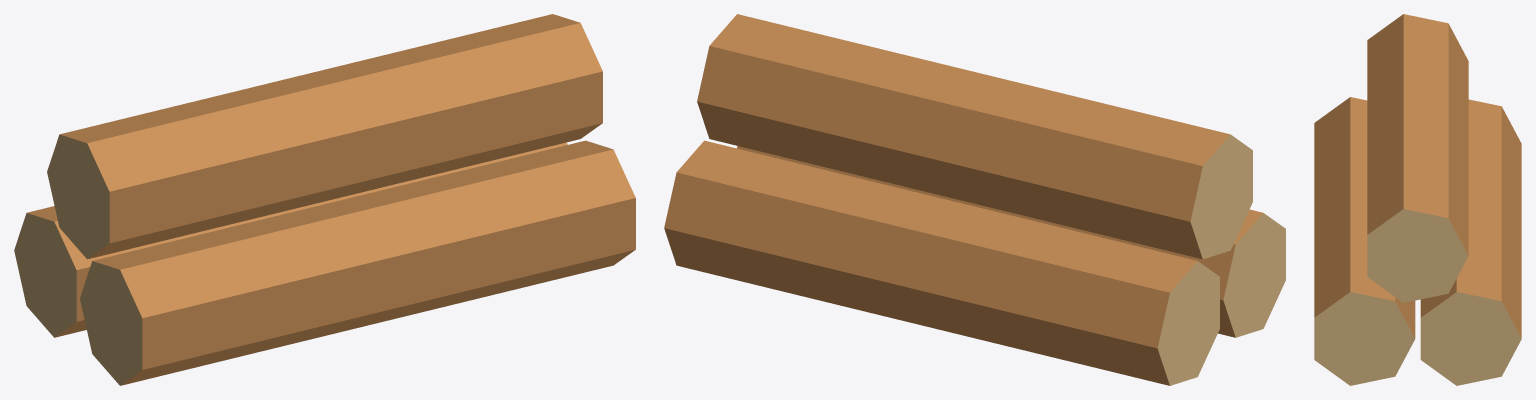
File: prop_logs_s.fbx
The picture shows the model from 3 angles, left to right: view 1: azimuth 30°, elevation 25°; view 2: azimuth 150°, elevation 25°; view 3: azimuth 270°, elevation 25°; orthographic projection. The views are drawn at different scales.
Visible parts, largest first — view 1: prop_logs_s; view 2: prop_logs_s; view 3: prop_logs_s.
Boxes of the visible parts, <box> form: prop_logs_s: <box>14,14,635,385</box>; prop_logs_s: <box>664,14,1285,385</box>; prop_logs_s: <box>1314,14,1521,385</box>.
Size of the model in its own units: 0.312 by 0.1321 by 0.1404.
